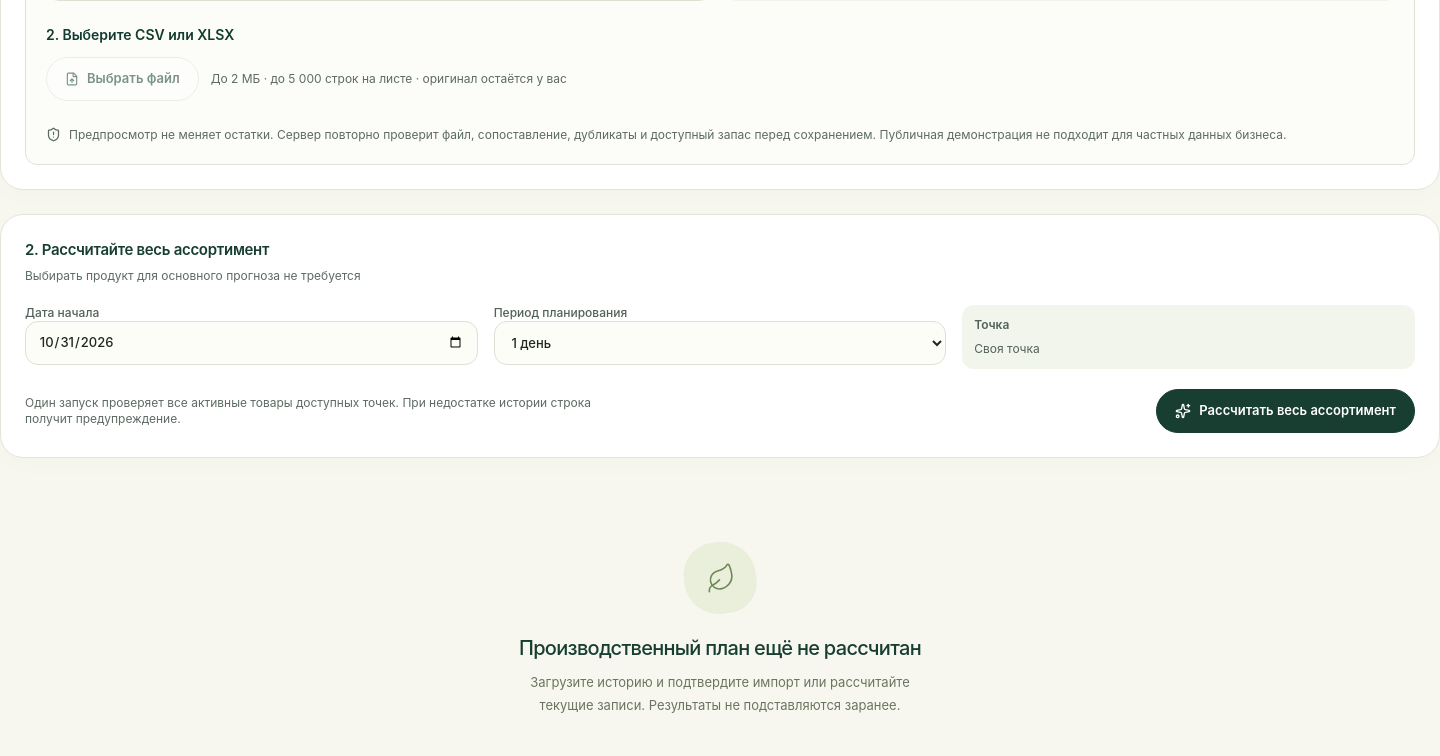
Test: automatic assortment planning › starts one whole-assortment request without product selection and hides a single-location selector
The image size is (1440, 756).
(page scrolled)
Click the button "Рассчитать весь ассортимент". click: [1286, 411]
box: [1156,389,1415,433]
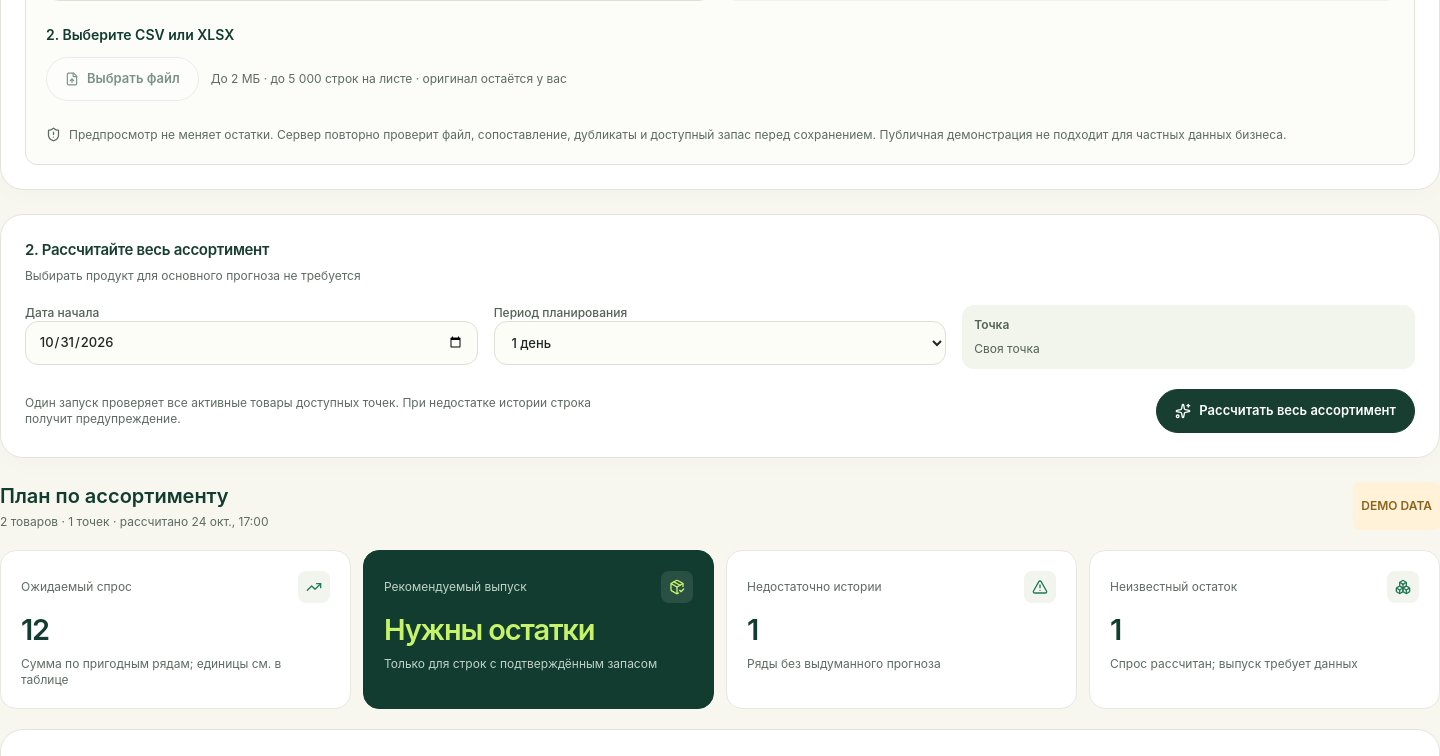
expect the heading "План по ассортименту" is shown: met, box [0,482,268,510]
